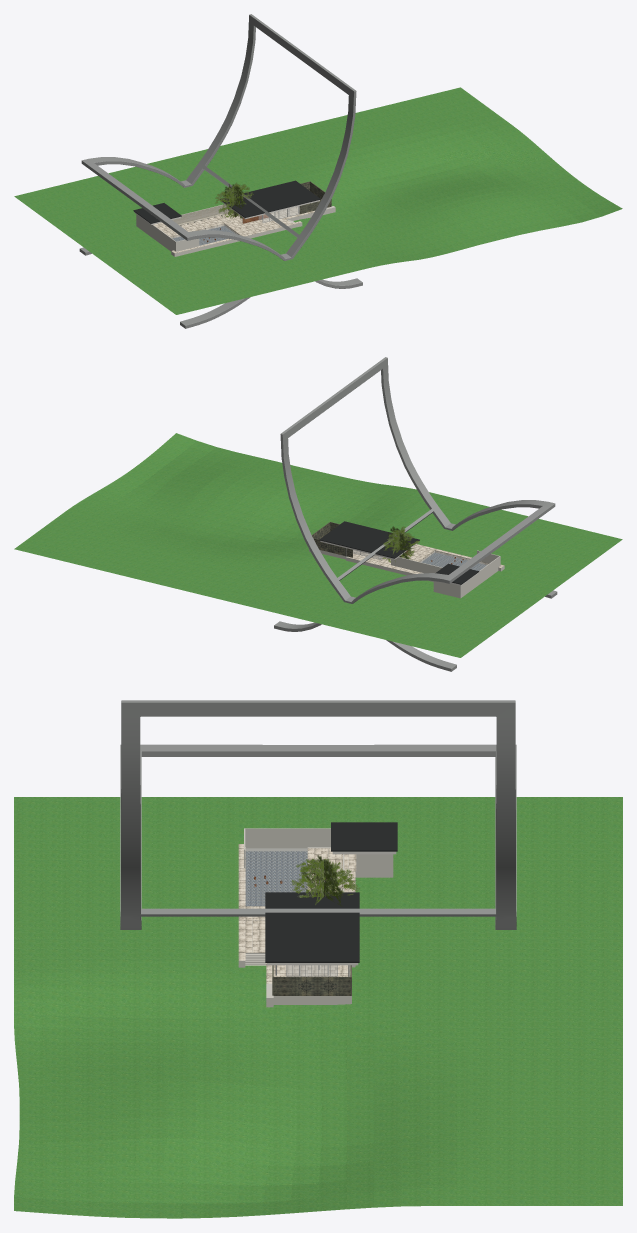
3 views of the same model, one above another, from view 1: azimuth 30°, elevation 25°; view 2: azimuth 150°, elevation 25°; view 3: azimuth 270°, elevation 25° (orthographic). The views are drawn at different scales.
Visible parts, largest first — view 1: tree_scatter_plane.001, Prototype_Cube.058, Plane.007, Cube.081, Plane.008, Prototype_tree_scatter, Cube.117, Plane.002, Cube.080; view 2: tree_scatter_plane.001, Prototype_Cube.058, Plane.007, Cube.117, Prototype_tree_scatter, Plane.008, Cube.081, Cube.119, water_plane_still.001, Plane.005, Cube.120; view 3: tree_scatter_plane.001, Prototype_Cube.058, Plane.007, Plane.005, water_plane_still.001, Cube.117, Plane.002, Prototype_tree_scatter, Plane.008, Cube.119, Cube.081, Cube.071.
Part boxes in pixels (bbox=[...]): tree_scatter_plane.001: bbox=[14, 87, 622, 314]; Prototype_Cube.058: bbox=[79, 14, 362, 328]; Plane.007: bbox=[220, 180, 320, 219]; Cube.081: bbox=[216, 212, 293, 236]; Plane.008: bbox=[136, 206, 335, 256]; Prototype_tree_scatter: bbox=[215, 182, 253, 218]; Cube.117: bbox=[136, 214, 199, 251]; Plane.002: bbox=[133, 203, 181, 224]; Cube.080: bbox=[173, 204, 229, 224]; tree_scatter_plane.001: bbox=[14, 433, 622, 657]; Prototype_Cube.058: bbox=[274, 357, 557, 671]; Plane.007: bbox=[319, 521, 419, 559]; Cube.117: bbox=[433, 550, 500, 594]; Prototype_tree_scatter: bbox=[382, 526, 419, 562]; Plane.008: bbox=[309, 549, 504, 598]; Cube.081: bbox=[357, 544, 435, 570]; Cube.119: bbox=[312, 522, 352, 557]; water_plane_still.001: bbox=[420, 551, 487, 570]; Plane.005: bbox=[421, 552, 486, 570]; Cube.120: bbox=[391, 557, 442, 573]; tree_scatter_plane.001: bbox=[14, 797, 622, 1218]; Prototype_Cube.058: bbox=[120, 700, 516, 929]; Plane.007: bbox=[265, 892, 359, 965]; Plane.005: bbox=[245, 851, 307, 906]; water_plane_still.001: bbox=[246, 848, 307, 905]; Cube.117: bbox=[244, 828, 393, 871]; Plane.002: bbox=[331, 822, 397, 854]; Prototype_tree_scatter: bbox=[291, 855, 359, 906]; Plane.008: bbox=[238, 847, 393, 1007]; Cube.119: bbox=[272, 965, 351, 995]; Cube.081: bbox=[238, 906, 265, 952]; Cube.071: bbox=[266, 963, 348, 975].
Bounding box in the file's own units: 143 × 59.91 × 89.88.
23 materials, 12 textured.
